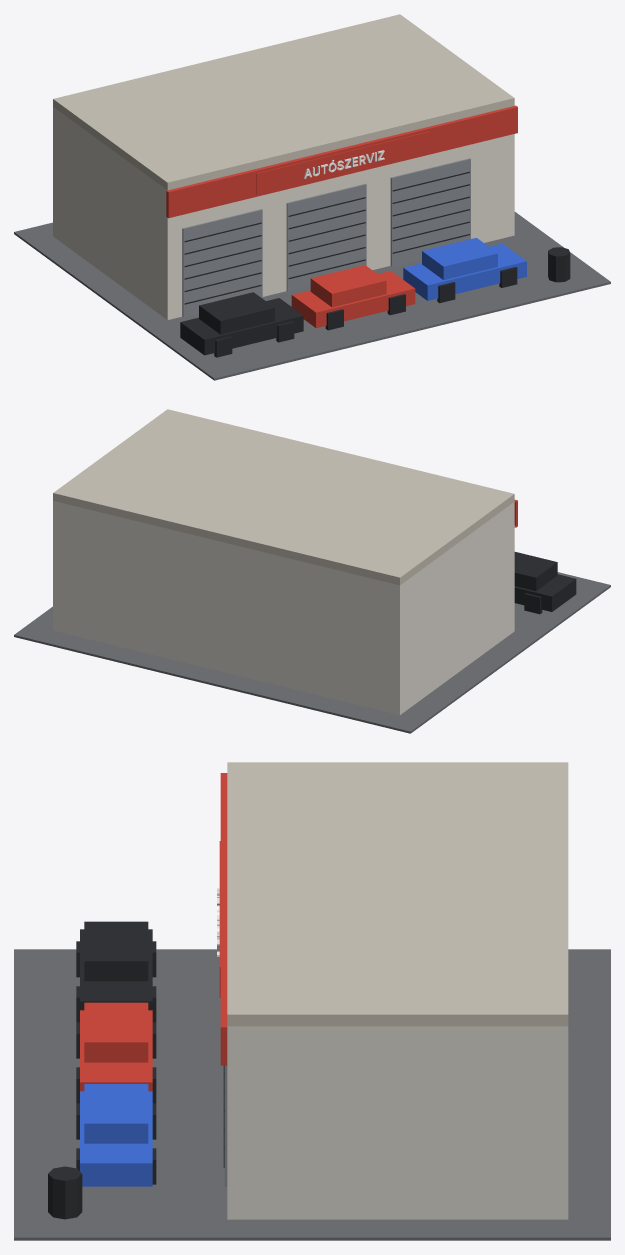
File: Sanayi_garaj_1_Hafif.fbx
The picture shows the model from 3 angles, top to bottom: view 1: azimuth 30°, elevation 25°; view 2: azimuth 150°, elevation 25°; view 3: azimuth 270°, elevation 25°; orthographic projection. The views are drawn at different scales.
Visible parts, largest first — view 1: Sanayi_garaj_1_Hafif; view 2: Sanayi_garaj_1_Hafif; view 3: Sanayi_garaj_1_Hafif.
Boxes of the visible parts, bbox=[...] form: Sanayi_garaj_1_Hafif: bbox=[14, 14, 610, 380]; Sanayi_garaj_1_Hafif: bbox=[14, 409, 610, 733]; Sanayi_garaj_1_Hafif: bbox=[14, 762, 610, 1240].
Bounding box in the file's own units: 16 × 5.38 × 14.
